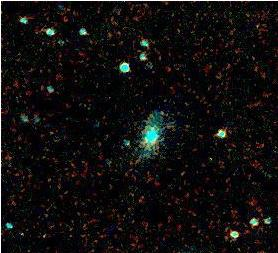star: (9, 217, 39, 247)
